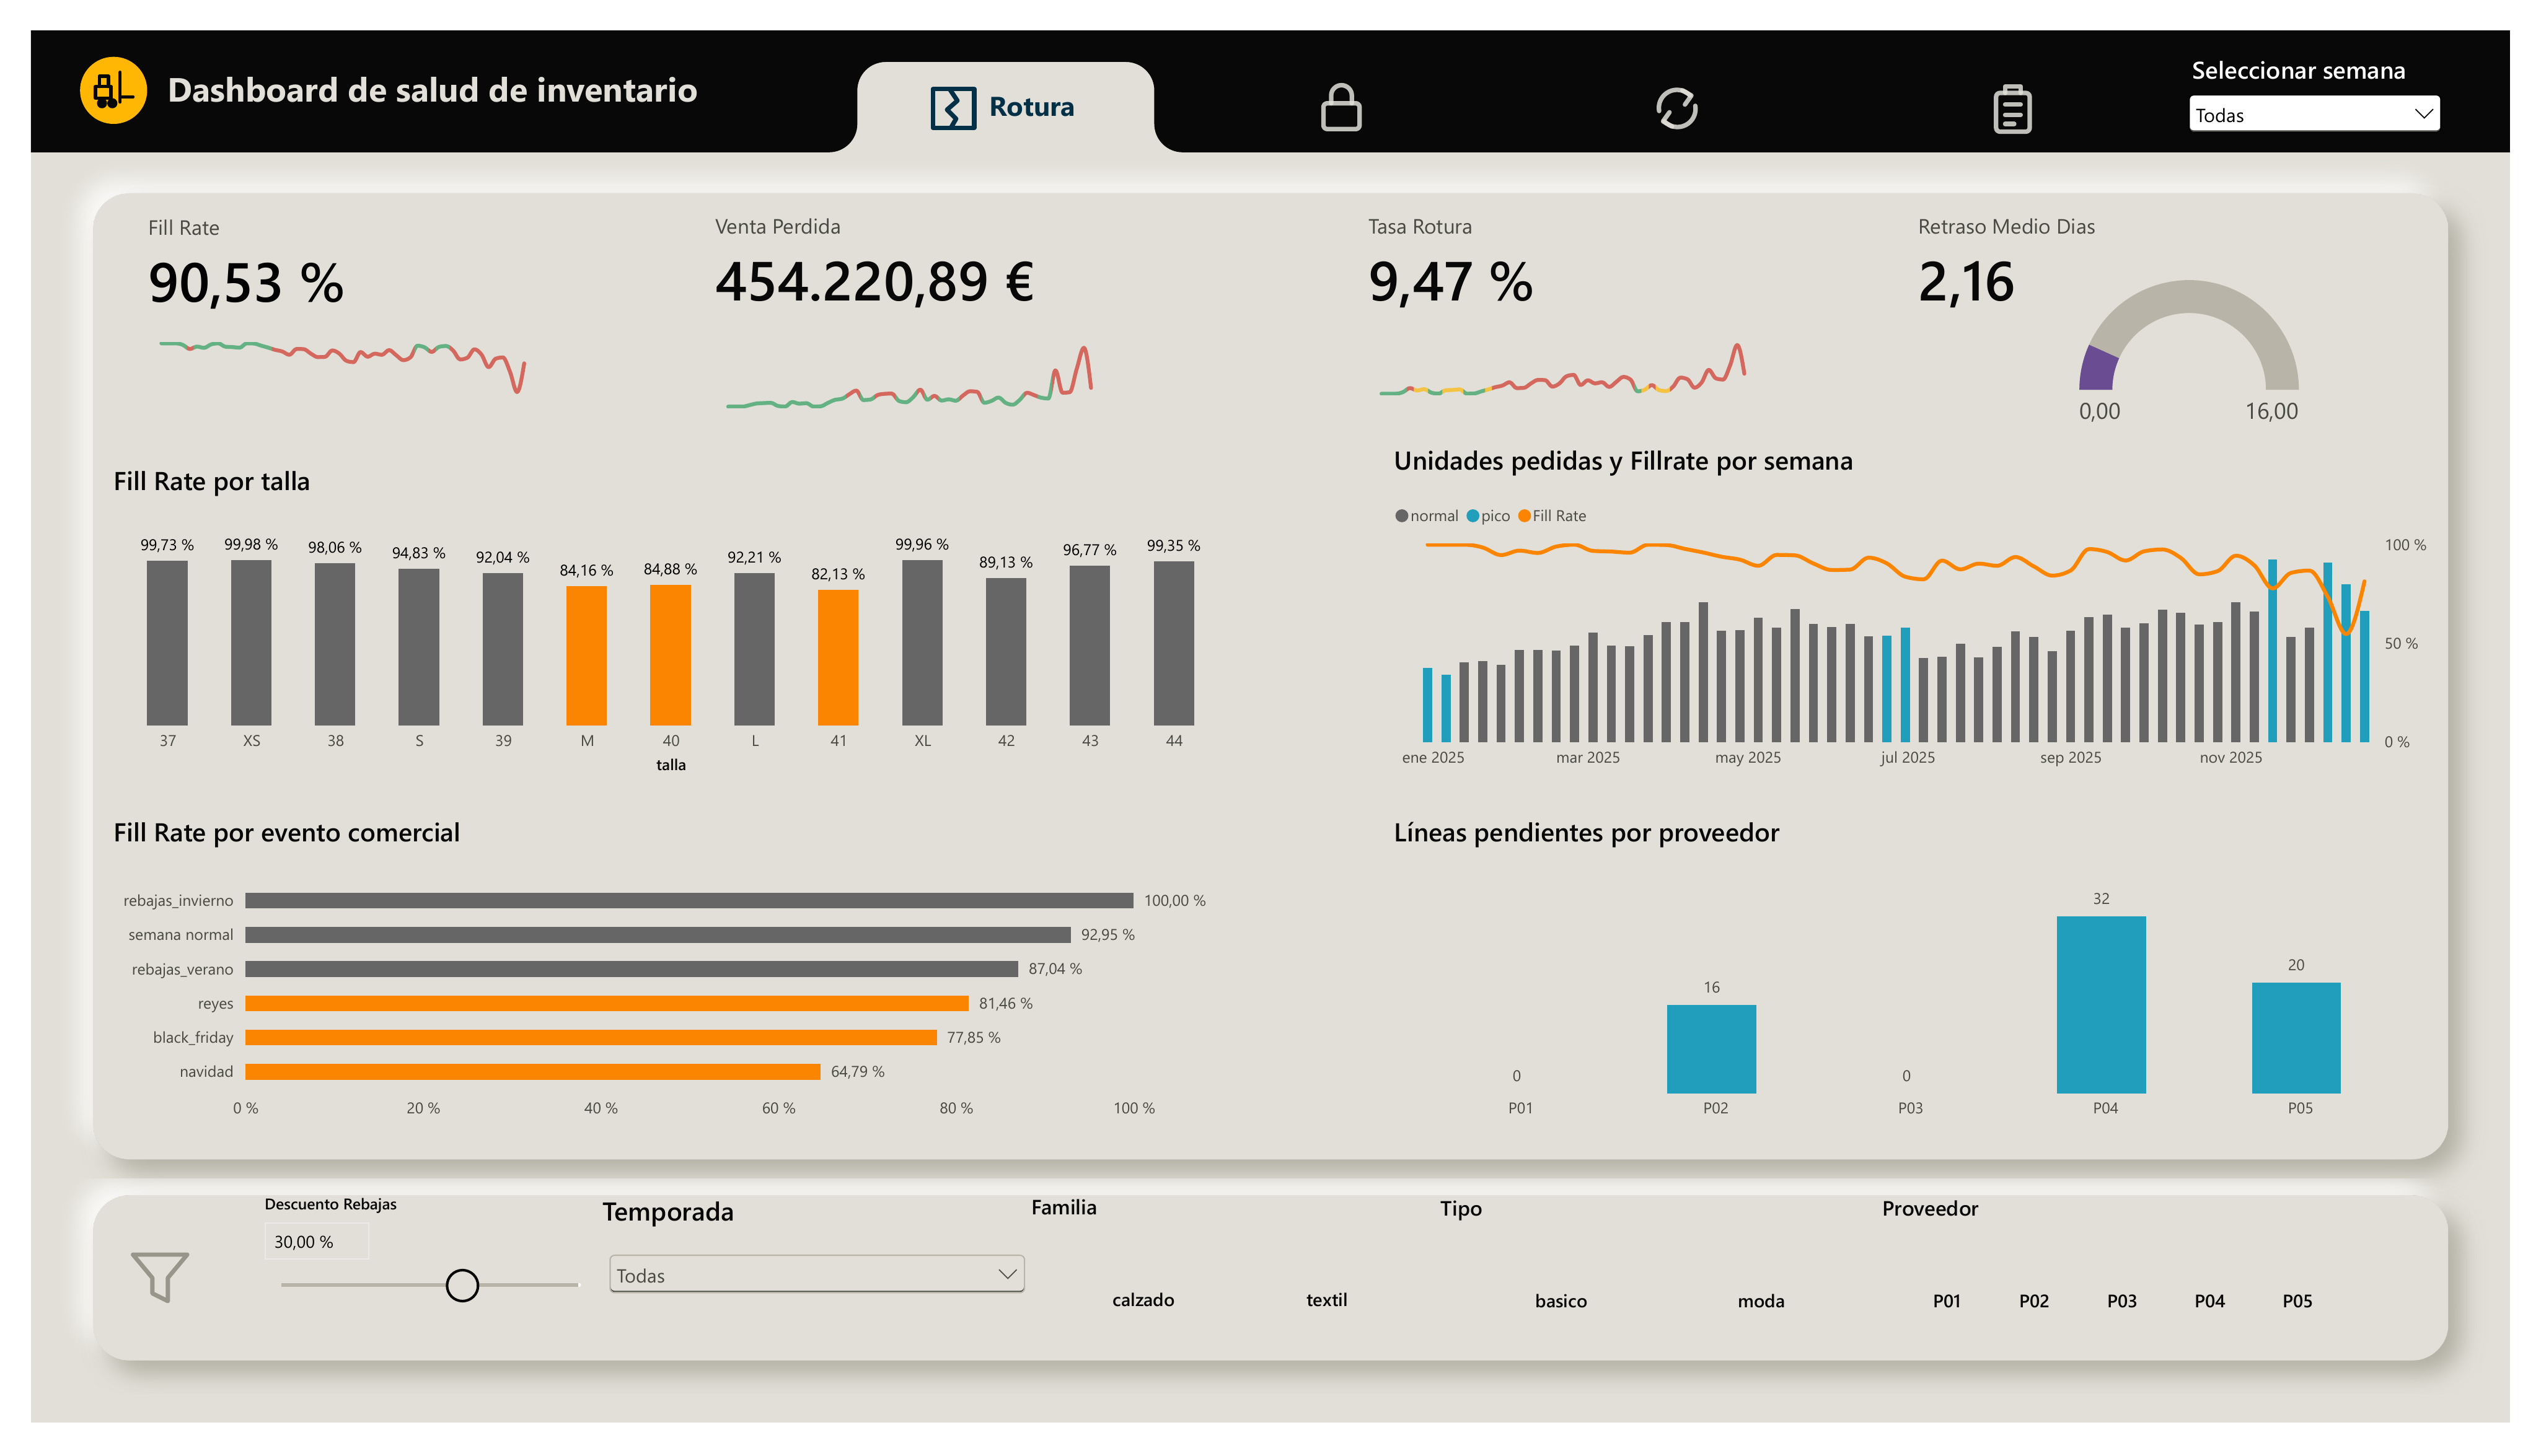

The page's visual inventory and layout, read from the dashboard file:
{"tool":"powerbi","page":{"name":"Roturas","canvas":[1920,1080],"ordinal":0},"visuals":[{"type":"columnChart","title":"Fill Rate por talla","fields":{"Category":["dim_producto.talla"],"Y":["_Medidas_Roturas.Fill Rate"],"Series":["dim_producto.TipoTalla"]},"box":[48,320,896,272],"z":0},{"type":"lineStackedColumnComboChart","title":"Unidades pedidas y Fillrate por semana","fields":{"Category":["Calendario.SemanaLunes"],"Y":["_Medidas_Roturas.Uds Pedidas"],"Series":["Calendario.TipoSemana"],"Y2":["_Medidas_Roturas.Fill Rate"]},"box":[1040,304,832,288],"z":1000},{"type":"barChart","title":"Fill Rate por evento comercial","fields":{"Category":["Calendario.EventoAlmacen"],"Y":["_Medidas_Roturas.Fill Rate"]},"box":[48,592,896,272],"z":2000},{"type":"cardVisual","fields":{"Data":["_Medidas_Roturas.Fill Rate"]},"box":[74.9,127.2,332.7,181.7],"z":3000},{"type":"cardVisual","fields":{"Data":["_Medidas_Roturas.Venta Perdida"]},"box":[514.2,126.3,332.7,181.7],"z":4000},{"type":"lineClusteredColumnComboChart","title":"Líneas pendientes por proveedor","fields":{"Category":["dim_proveedor.id_proveedor"],"Y":["_Medidas_Roturas.Lineas Pendientes"]},"box":[1040,592,832,272],"z":5000},{"type":"lineChart","fields":{"Y":["_Medidas_Roturas.Fill Rate"],"Category":["Calendario.SemanaLunes"]},"box":[74.9,219,332.7,89.9],"z":6000},{"type":"lineChart","fields":{"Category":["Calendario.SemanaLunes"],"Y":["_Medidas_Roturas.Venta Perdida"]},"box":[514.2,218.1,332.7,89.9],"z":7000},{"type":"slicer","fields":{"Values":["Descuento Rebajas.Descuento Rebajas"]},"box":[173.3,900,268.8,130],"z":8000},{"type":"actionButton","box":[74.6,935.1,53.5,49.7],"z":9000},{"type":"cardVisual","fields":{"Data":["_Medidas_Roturas.Tasa Rotura"]},"box":[1020,126,332.7,181.7],"z":10000},{"type":"cardVisual","fields":{"Data":["_Medidas_Roturas.Retraso Medio Dias"]},"box":[1446,126,332.7,181.7],"z":11000},{"type":"gauge","fields":{"Y":["_Medidas_Roturas.Retraso Medio Dias"]},"box":[1532.9,178.6,277.1,148.6],"z":12000},{"type":"slicer","title":"Temporada","fields":{"Values":["dim_producto.temporada"]},"box":[443.3,900,331.7,130],"z":13000},{"type":"advancedSlicerVisual","title":"Proveedor","fields":{"Values":["dim_proveedor.id_proveedor"]},"box":[1434.3,900.7,374.8,130],"z":14000},{"type":"advancedSlicerVisual","title":"Tipo","fields":{"Values":["dim_producto.tipo"]},"box":[1092,900.7,342.3,130],"z":15000},{"type":"advancedSlicerVisual","title":"Familia","fields":{"Values":["dim_producto.familia"]},"box":[775,900,316.7,130],"z":16000},{"type":"lineChart","fields":{"Category":["Calendario.SemanaLunes"],"Y":["_Medidas_Roturas.Tasa Rotura"]},"box":[1020,208.3,332.7,89.9],"z":17000},{"type":"slicer","fields":{"Values":["Calendario.SemanaLunes"]},"box":[1665.7,17.2,206.5,68.3],"z":18000},{"type":"actionButton","box":[970,31.2,91.2,55],"z":19000},{"type":"actionButton","box":[1230,31.2,91.2,55],"z":20000},{"type":"actionButton","box":[1486.2,31.2,91.2,55],"z":21000}]}

Visuals, with their boxes on the page's 1920x1080 design canvas (x1, y1, x2, y2). These are canvas units, not pixel positions in the 2541x1456 screenshot, which may show the page scaled, cropped or inside an application window:
"Fill Rate por talla" columnChart: 48, 320, 944, 592
"Unidades pedidas y Fillrate por semana" lineStackedColumnComboChart: 1040, 304, 1872, 592
"Fill Rate por evento comercial" barChart: 48, 592, 944, 864
cardVisual - _Medidas_Roturas.Fill Rate: 75, 127, 408, 309
cardVisual - _Medidas_Roturas.Venta Perdida: 514, 126, 847, 308
"Líneas pendientes por proveedor" lineClusteredColumnComboChart: 1040, 592, 1872, 864
lineChart - _Medidas_Roturas.Fill Rate x Calendario.SemanaLunes: 75, 219, 408, 309
lineChart - Calendario.SemanaLunes x _Medidas_Roturas.Venta Perdida: 514, 218, 847, 308
slicer - Descuento Rebajas.Descuento Rebajas: 173, 900, 442, 1030
actionButton: 75, 935, 128, 985
cardVisual - _Medidas_Roturas.Tasa Rotura: 1020, 126, 1353, 308
cardVisual - _Medidas_Roturas.Retraso Medio Dias: 1446, 126, 1779, 308
gauge - _Medidas_Roturas.Retraso Medio Dias: 1533, 179, 1810, 327
"Temporada" slicer: 443, 900, 775, 1030
"Proveedor" advancedSlicerVisual: 1434, 901, 1809, 1031
"Tipo" advancedSlicerVisual: 1092, 901, 1434, 1031
"Familia" advancedSlicerVisual: 775, 900, 1092, 1030
lineChart - Calendario.SemanaLunes x _Medidas_Roturas.Tasa Rotura: 1020, 208, 1353, 298
slicer - Calendario.SemanaLunes: 1666, 17, 1872, 86
actionButton: 970, 31, 1061, 86
actionButton: 1230, 31, 1321, 86
actionButton: 1486, 31, 1577, 86
